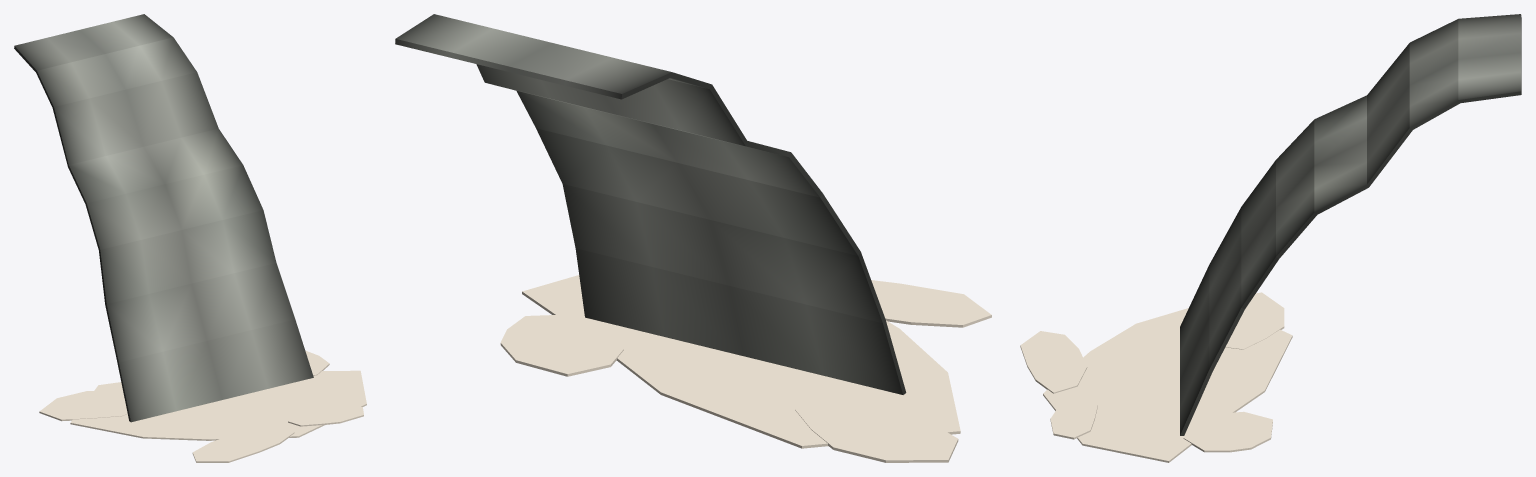
Rendered from SM_VKI_Prop_Waterfall_RockLow.fbx.
3 renders of one model, left to right at view 1: azimuth 30°, elevation 25°; view 2: azimuth 150°, elevation 25°; view 3: azimuth 270°, elevation 25°, orthographic. The views are drawn at different scales.
Parts seen in each view (by area): view 1: SM_VKI_Prop_Waterfall_RockLow.001; view 2: SM_VKI_Prop_Waterfall_RockLow.001; view 3: SM_VKI_Prop_Waterfall_RockLow.001.
Part boxes in pixels (left/top/right/bottom): SM_VKI_Prop_Waterfall_RockLow.001: left=14, top=14, right=366, bottom=462; SM_VKI_Prop_Waterfall_RockLow.001: left=395, top=14, right=991, bottom=462; SM_VKI_Prop_Waterfall_RockLow.001: left=1020, top=14, right=1521, bottom=462.
Size of the model in its own units: 1.17 by 1.08 by 1.48.
